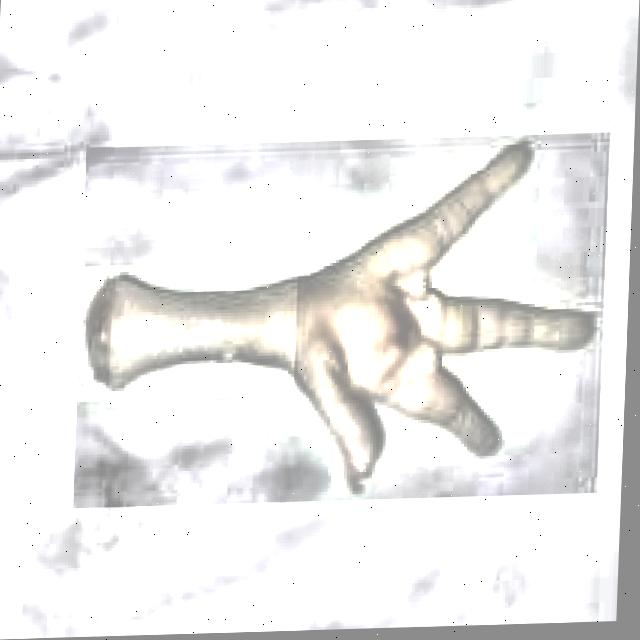Bumble foot: (79, 140, 611, 506), (82, 279, 124, 393), (378, 282, 428, 361)
